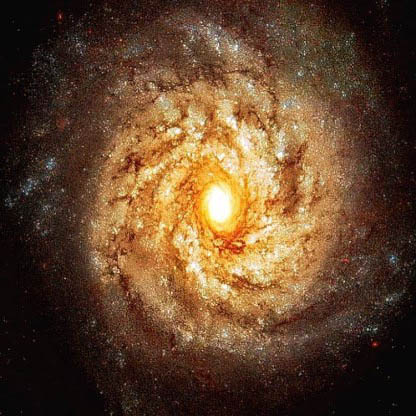NGC 3982: (52, 19, 373, 379)
